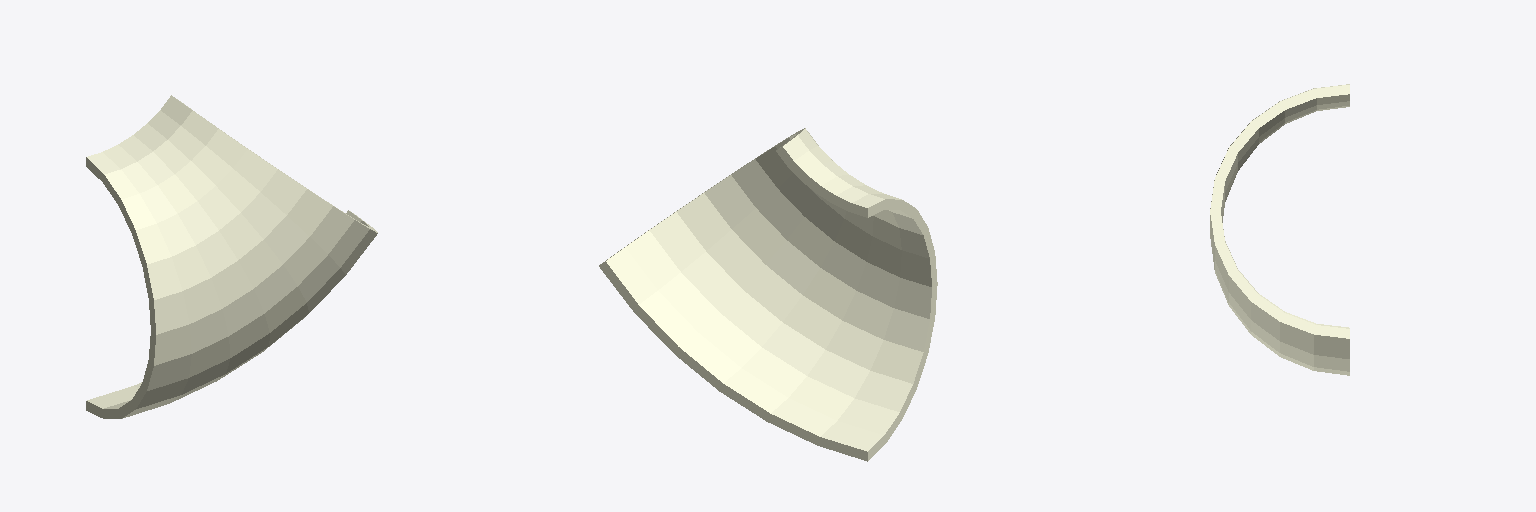
File: section_035.obj
3 views of the same model, side by side, from view 1: azimuth 30°, elevation 25°; view 2: azimuth 150°, elevation 25°; view 3: azimuth 270°, elevation 25° (orthographic).
Size of the model in its own units: 28.91 by 30.21 by 13.